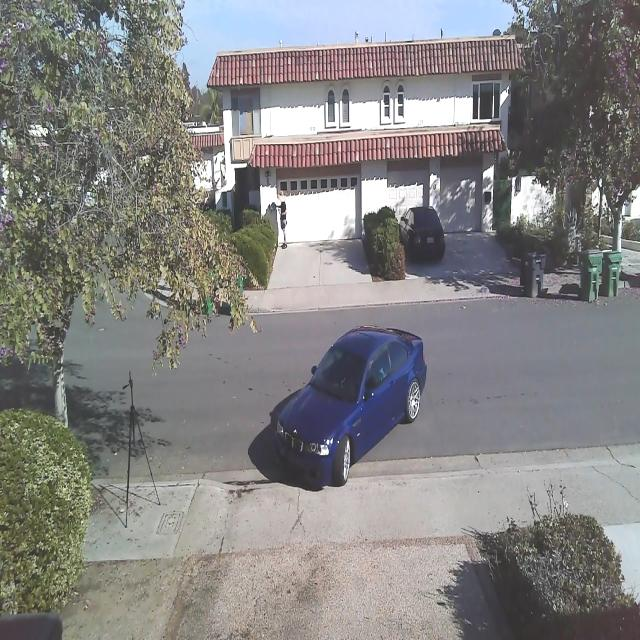Carbeetle: (255, 314, 442, 500)
Civilian: (399, 205, 445, 263)
